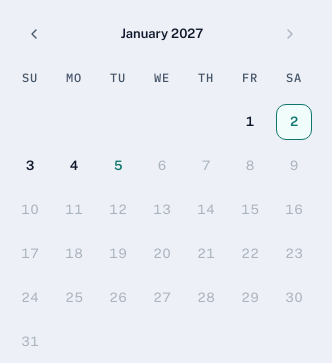
DayPickerCalendar › navigates and aligns correctly across the December → January year seam
This screenshot has width=332, height=363.
Expected: the text "January 2027" is shown, [121,24,203,44]
Click the button named "previous month".
click(34, 34)  # box [12,12,56,56]
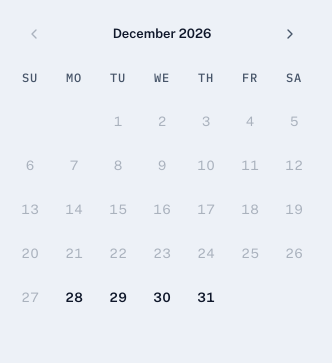
Expected: the text "December 2026" is shown, [113,24,211,44]
Click the button named "next month".
click(290, 34)  # box [268,12,312,56]
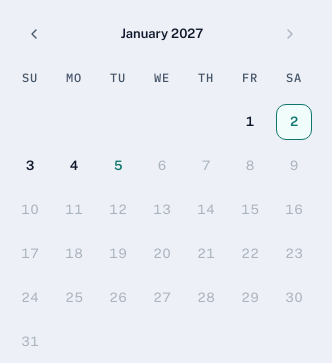
Expected: the text "January 2027" is shown, [121,24,203,44]
